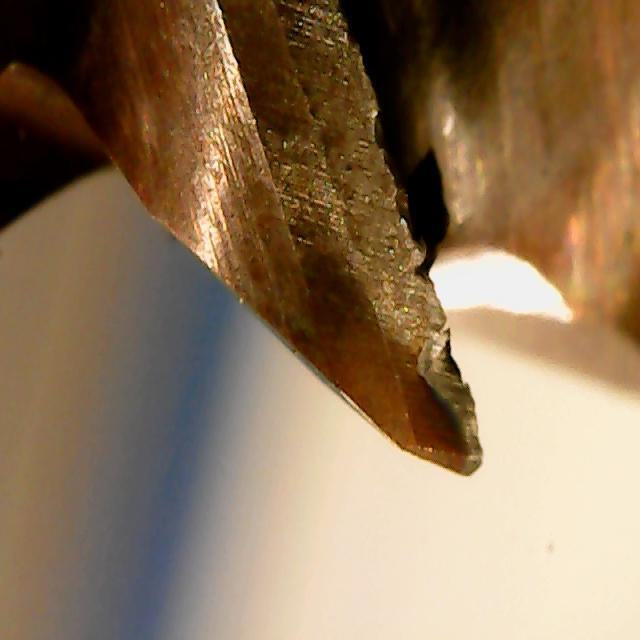Tool-wear-class-2: (334, 268, 491, 482)
